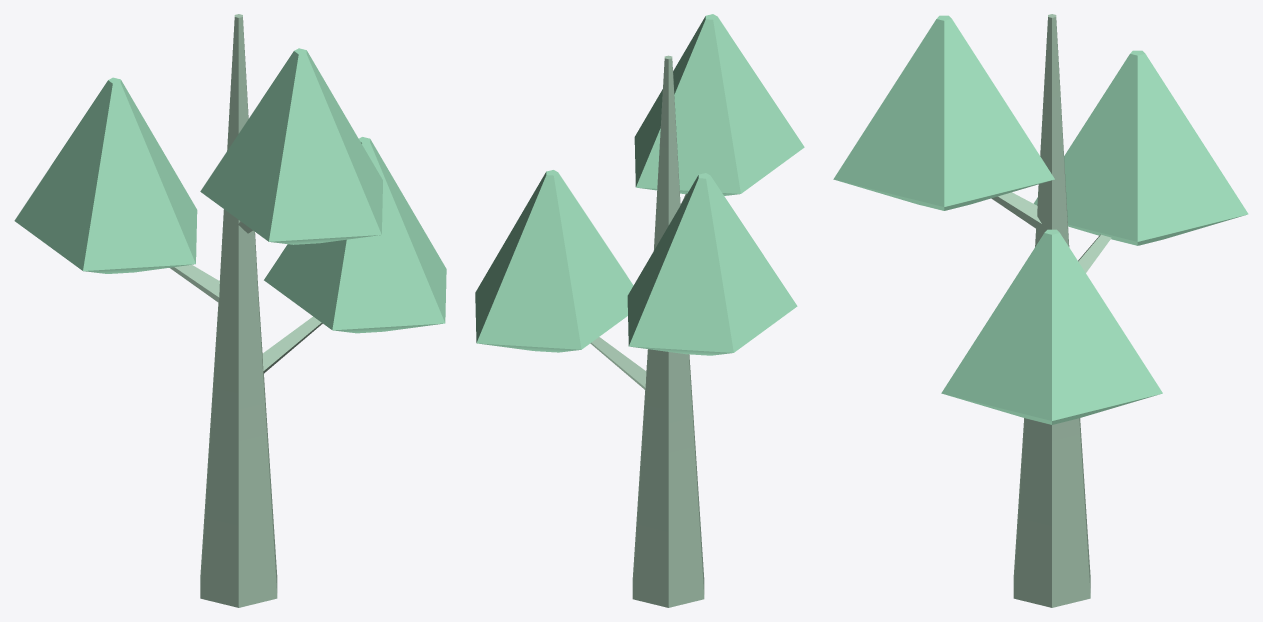
The model's file is prop_tree_erma_v4_ShadowProxy.glb.
3 views of the same model, side by side, from view 1: azimuth 30°, elevation 25°; view 2: azimuth 150°, elevation 25°; view 3: azimuth 270°, elevation 25° (orthographic). The views are drawn at different scales.
Visible parts, largest first — view 1: prop_tree_erma_v4_ShadowProxy / Natural silhouette; view 2: prop_tree_erma_v4_ShadowProxy / Natural silhouette; view 3: prop_tree_erma_v4_ShadowProxy / Natural silhouette.
Boxes of the visible parts, x1,y1,x2,y2 form: prop_tree_erma_v4_ShadowProxy / Natural silhouette: (14, 14, 446, 607); prop_tree_erma_v4_ShadowProxy / Natural silhouette: (475, 14, 804, 607); prop_tree_erma_v4_ShadowProxy / Natural silhouette: (833, 14, 1248, 607).
Bounding box in the file's own units: 2.2 × 3.41 × 2.23.
